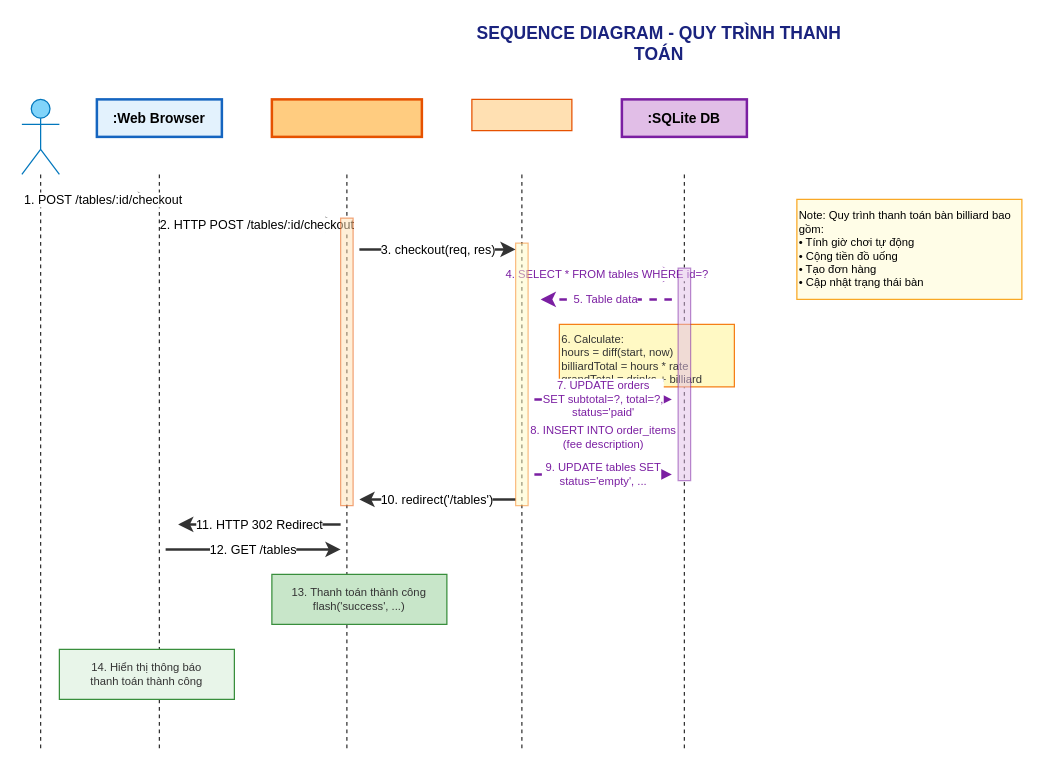
Image size: 1044x773. Some labels were removed from this diagram. Here are the shapes that lost their labels. From the top down, the centre of each, then its label:
[346,118]: :Express Server
[521,114]: :Routes
[40,136]: Staff
